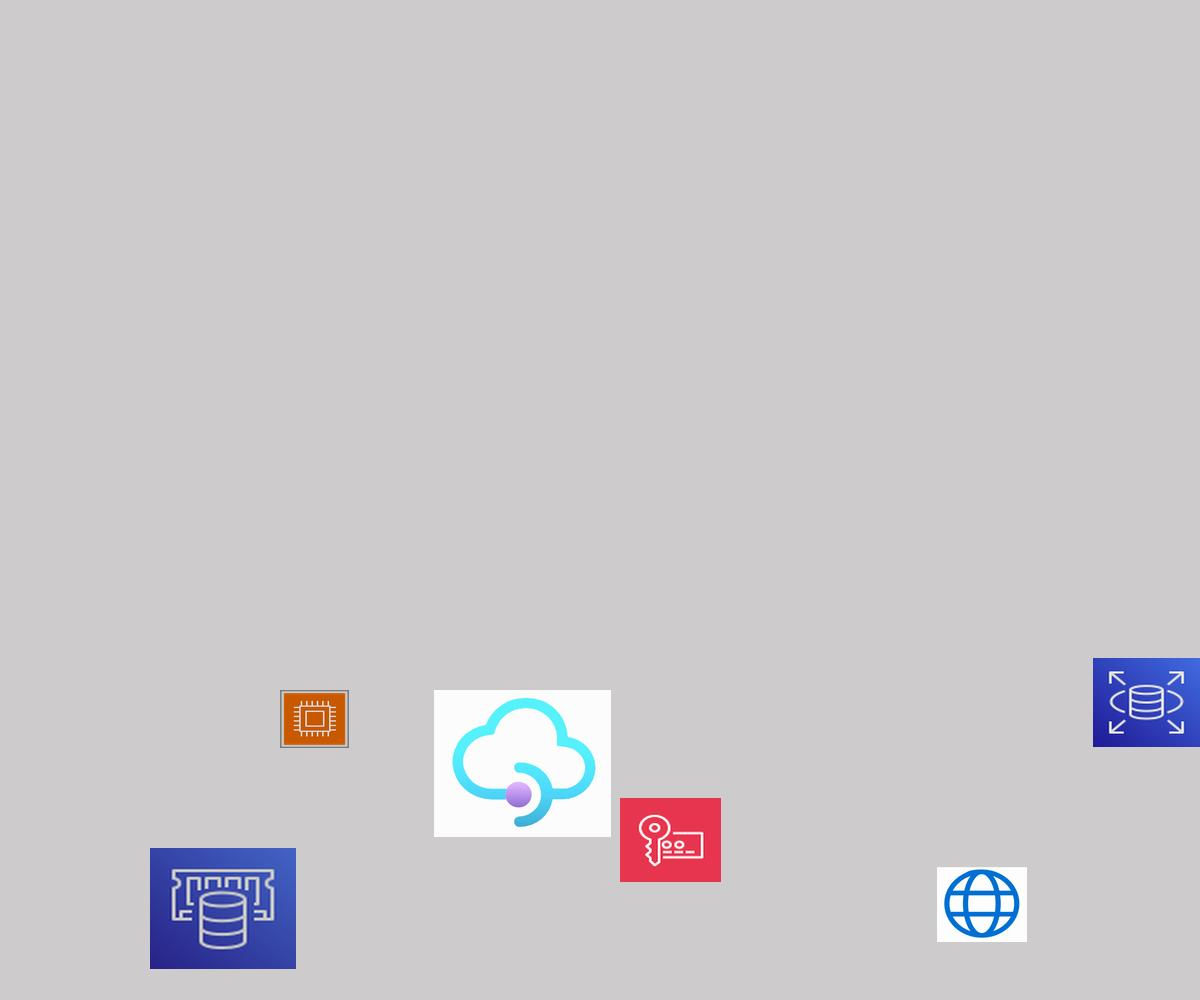AWS-Category_Compute: (280, 690, 349, 748)
AWS-ElastiCache: (150, 848, 296, 969)
AWS-Key-Management-Service: (620, 798, 721, 882)
AWS-RDS: (1093, 658, 1200, 747)
Azure_api_gateway: (434, 690, 611, 837)
Azure_http: (937, 867, 1027, 942)
